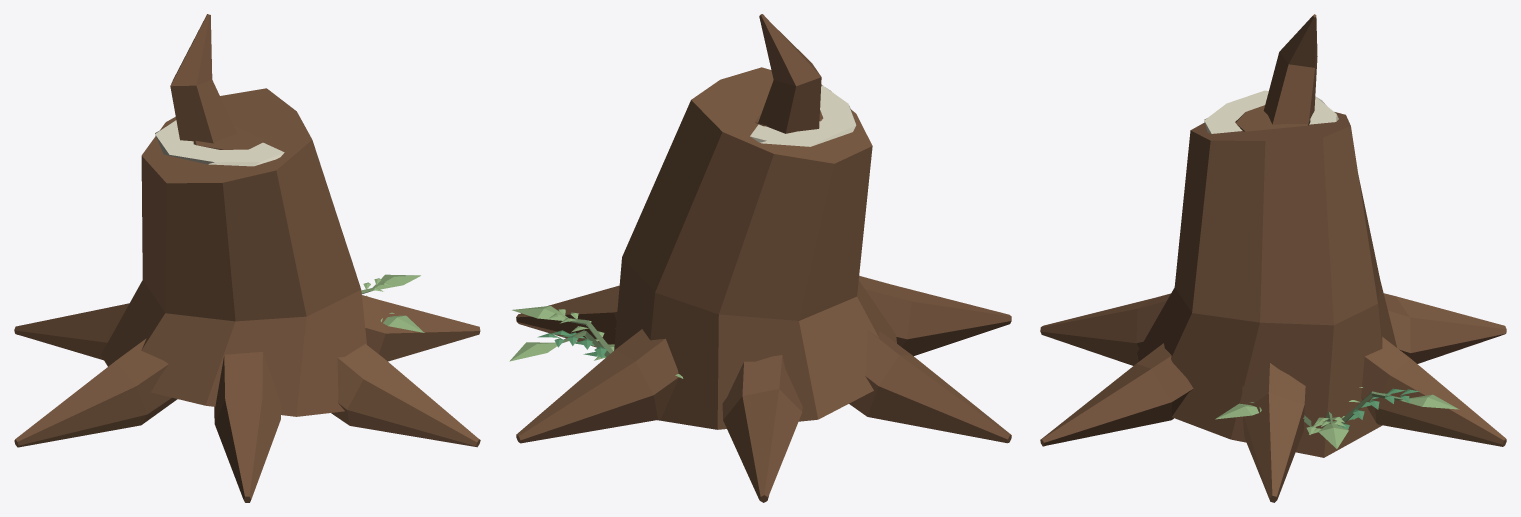
Rendered from rooted_stump.glb.
3 views of the same model, side by side, from view 1: azimuth 30°, elevation 25°; view 2: azimuth 150°, elevation 25°; view 3: azimuth 270°, elevation 25° (orthographic). The views are drawn at different scales.
Visible parts, largest first — view 1: rooted_stump / mesh; view 2: rooted_stump / mesh; view 3: rooted_stump / mesh.
Part boxes in pixels (x1,y1,x2,y2): rooted_stump / mesh: (14,14,480,502); rooted_stump / mesh: (509,14,1011,502); rooted_stump / mesh: (1040,14,1506,502).
Size of the model in its own units: 3.11 by 2.41 by 2.71.
